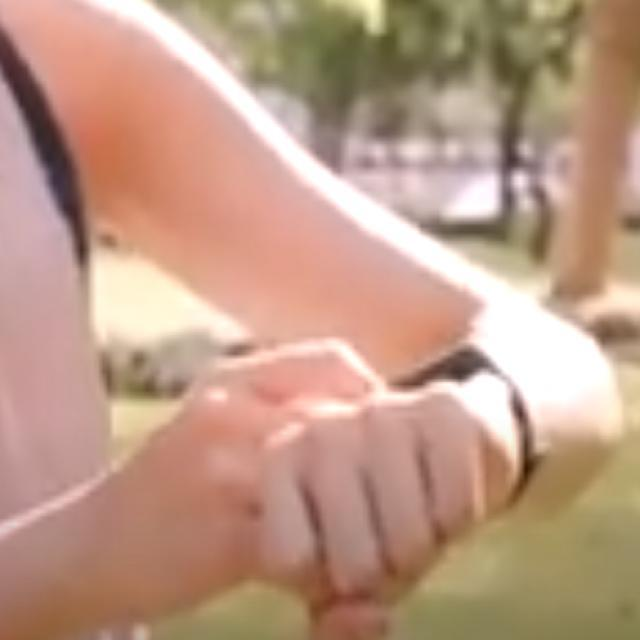Watch: (385, 346, 545, 498)
